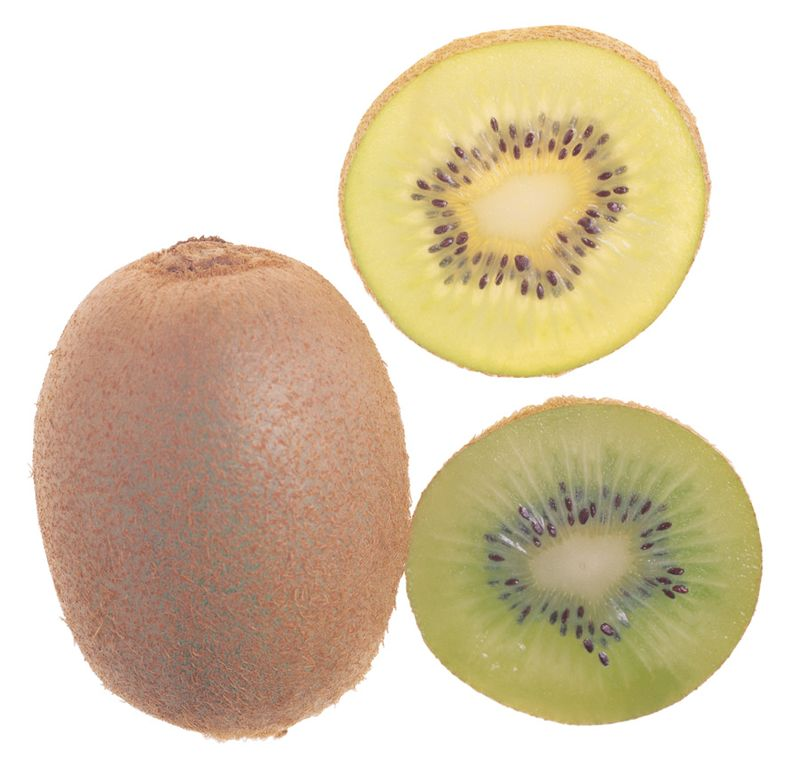kiwi: (34, 235, 407, 737), (338, 25, 711, 379), (409, 394, 763, 723)
